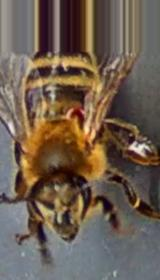varroa_mite: (57, 98, 95, 128)
